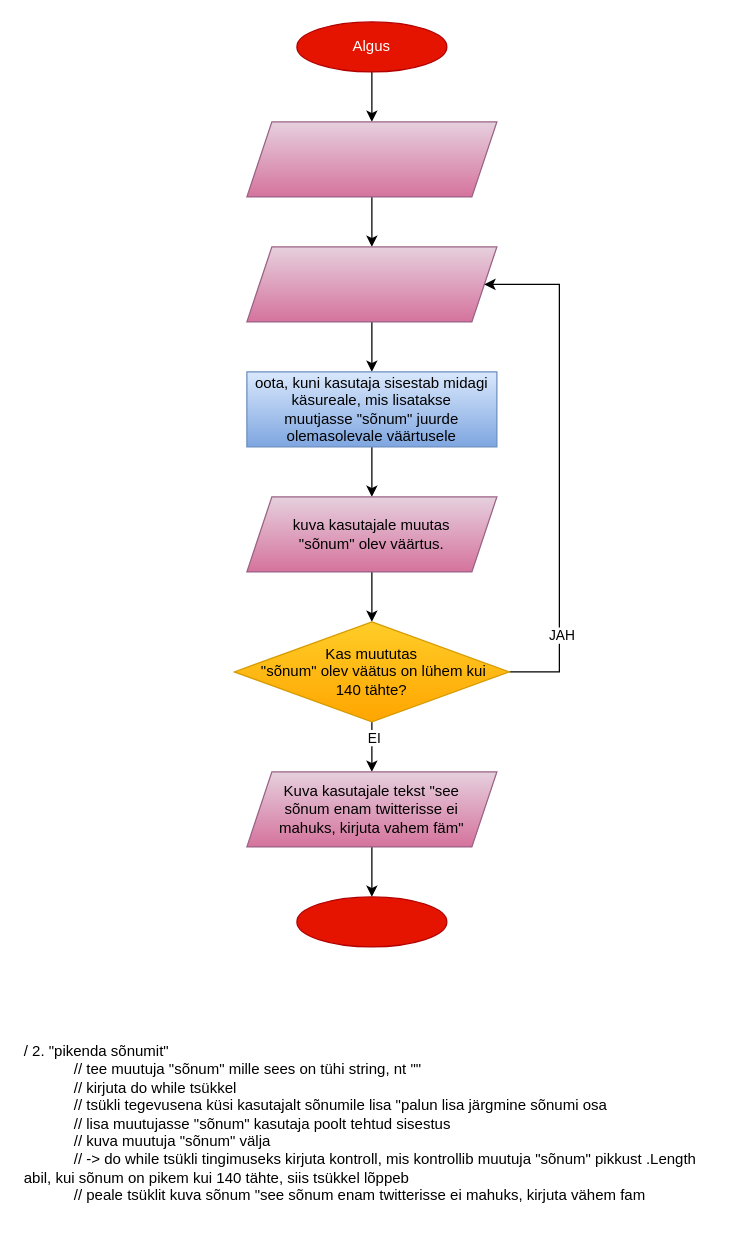
Image size: 743x1244. Some labels were removed from this diagram. Each missing label, with the centre of its shape:
Kuva kasutaja tekst: "Palun lisa järgmine sõnmi osa": (371,284)
Lõpp: (371,921)
Tekitame muutuja "sõnum" mille sisse omistame algväärtusena tühja sõne, või "": (371,159)
